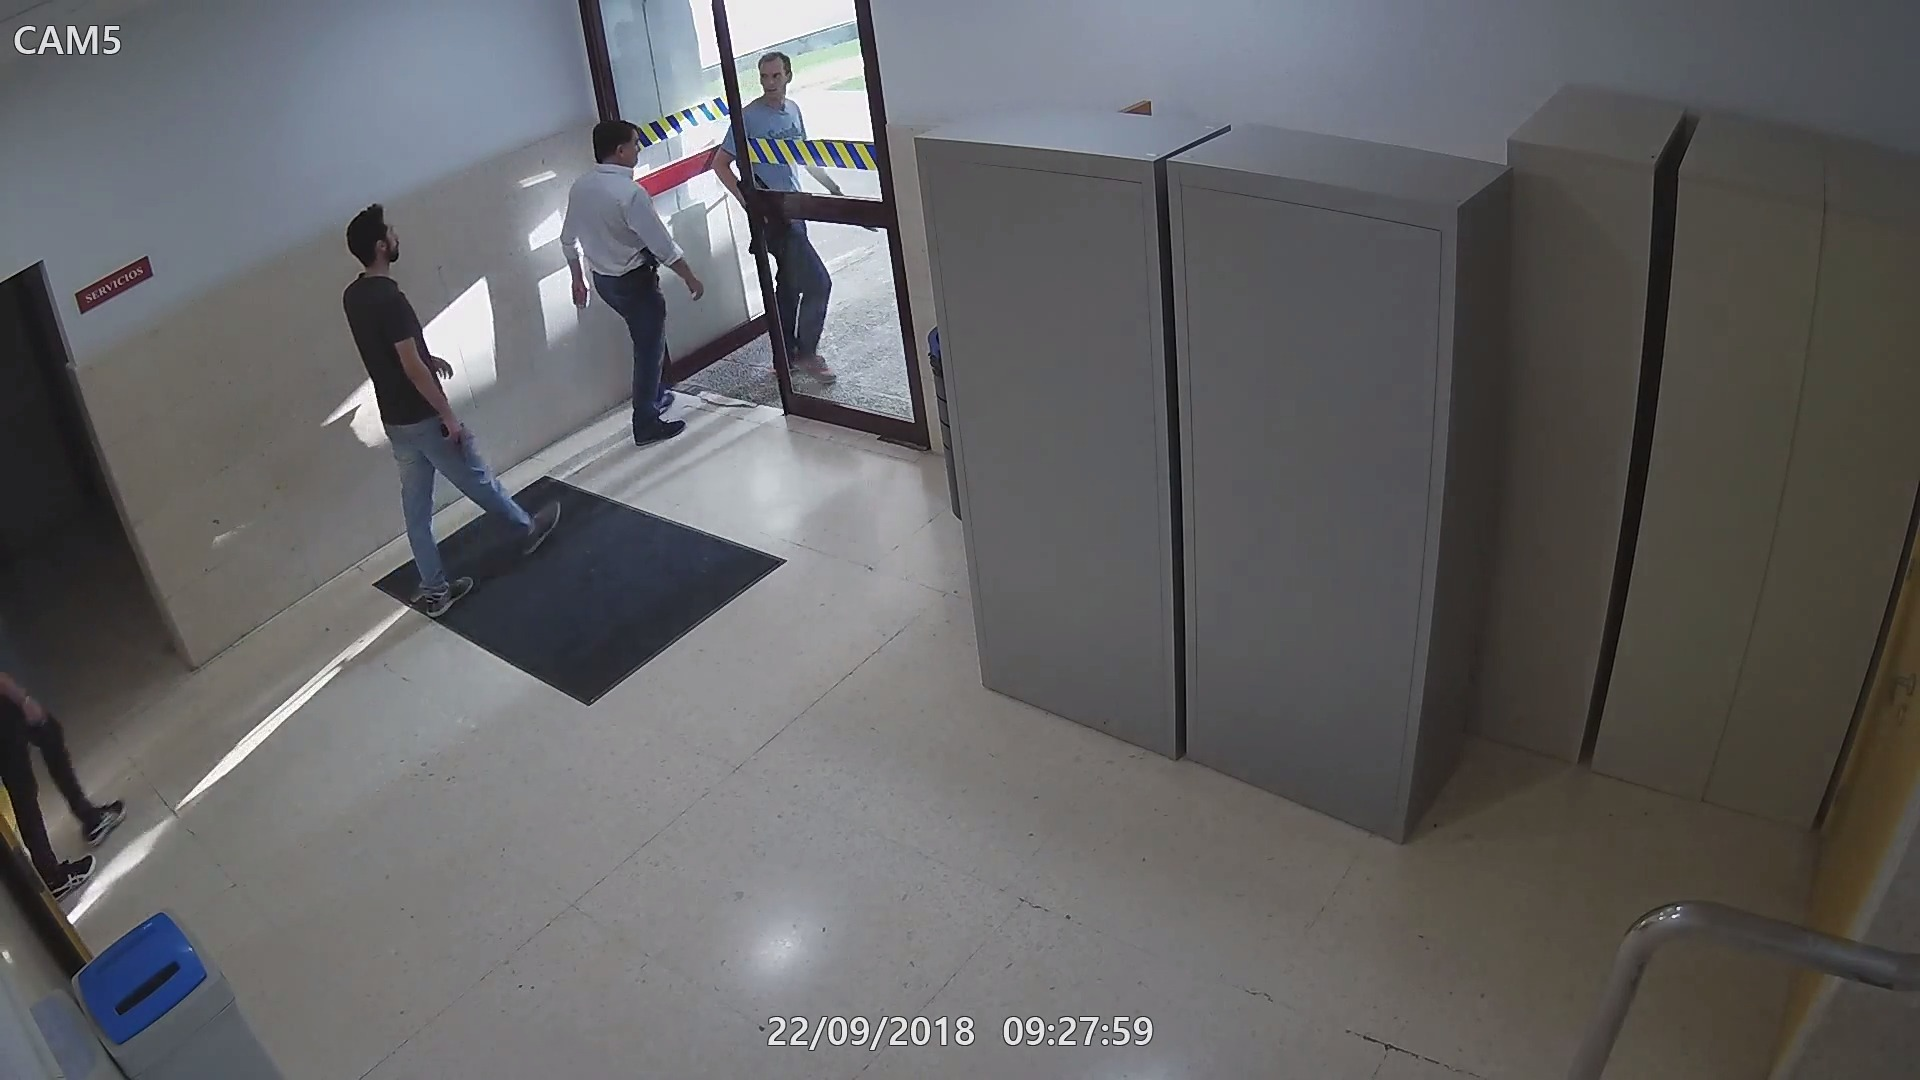Handgun: (21, 694, 63, 748), (436, 419, 476, 462), (638, 252, 665, 294)
